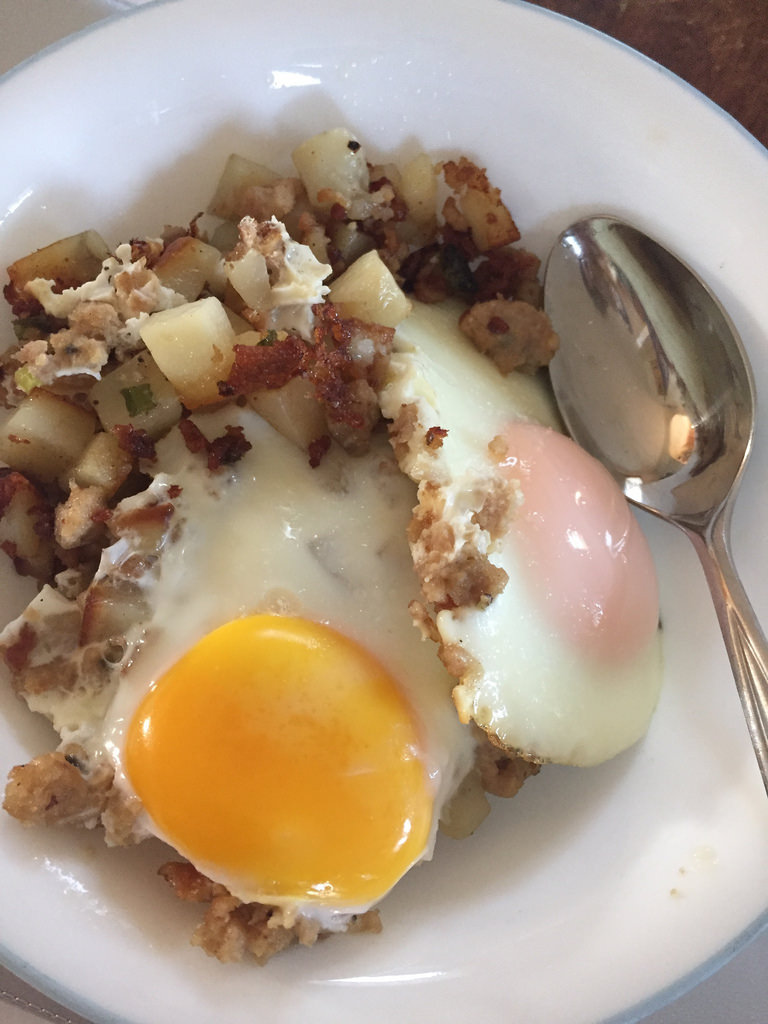fried egg: (76, 438, 465, 963), (362, 254, 681, 774)
